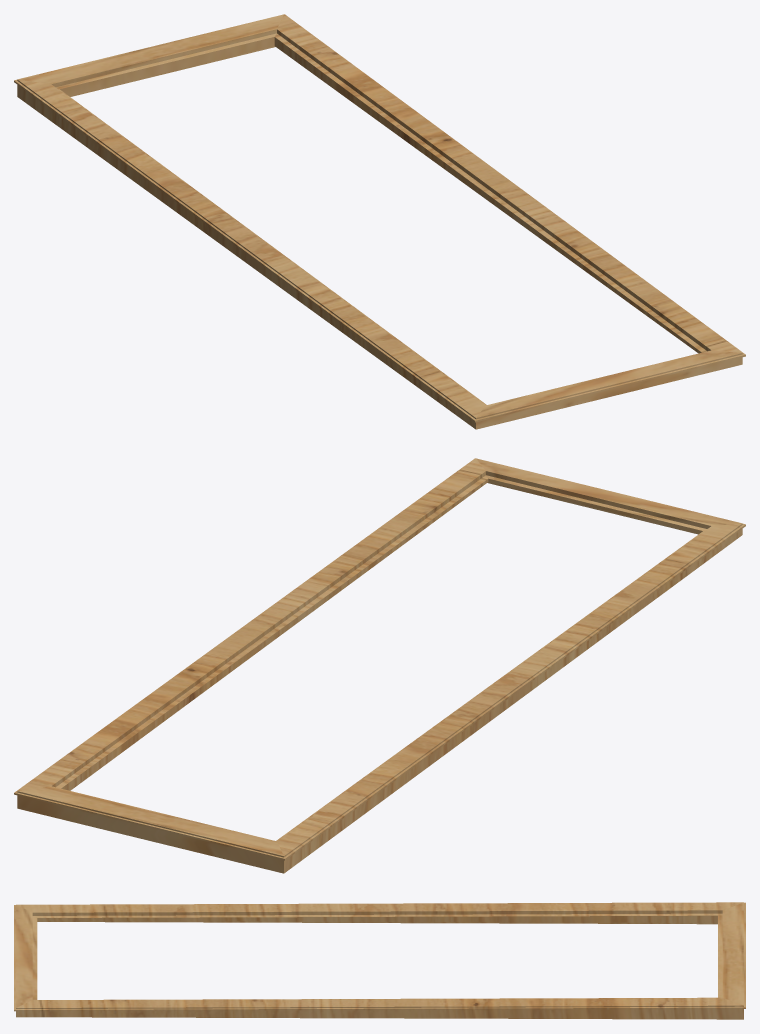
Rendered from RaamZijlicht.dae.
The picture shows the model from 3 angles, top to bottom: view 1: azimuth 30°, elevation 25°; view 2: azimuth 150°, elevation 25°; view 3: azimuth 270°, elevation 25°; orthographic projection. The views are drawn at different scales.
Visible parts, largest first — view 1: RaamZijlicht_geo; view 2: RaamZijlicht_geo; view 3: RaamZijlicht_geo.
Boxes of the visible parts, x1,y1,x2,y2 form: RaamZijlicht_geo: (14, 14, 745, 429); RaamZijlicht_geo: (14, 458, 745, 873); RaamZijlicht_geo: (14, 902, 745, 1019).
Bounding box in the file's own units: 52.9 × 3.26 × 156.
1 material, 1 textured.
